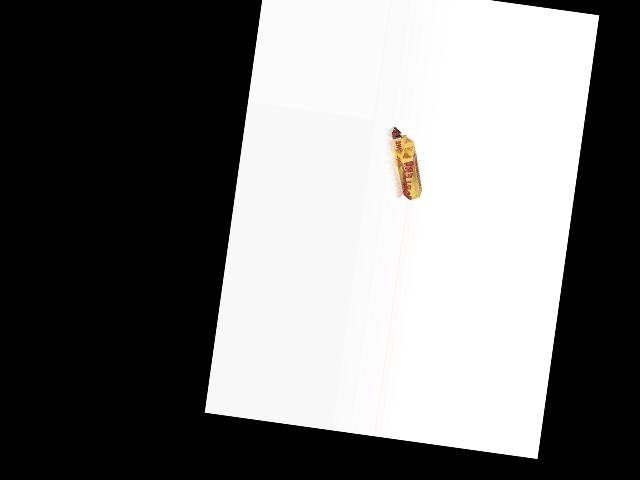chocolate: (379, 125, 431, 201)
